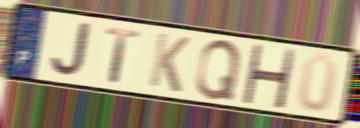0: (296, 51, 340, 115)
H: (240, 42, 298, 110)
J: (48, 21, 92, 79)
K: (146, 31, 193, 96)
Q: (194, 38, 244, 103)
T: (104, 25, 143, 85)
